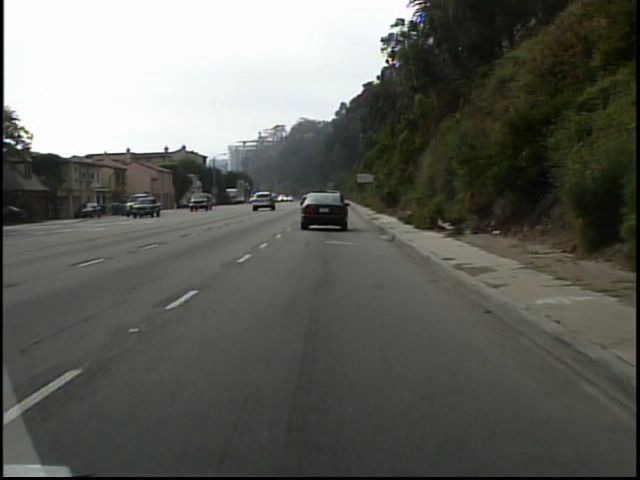car: (299, 193, 349, 229), (131, 194, 166, 222), (187, 192, 213, 210), (252, 193, 276, 209)
strada: (13, 221, 625, 478)
